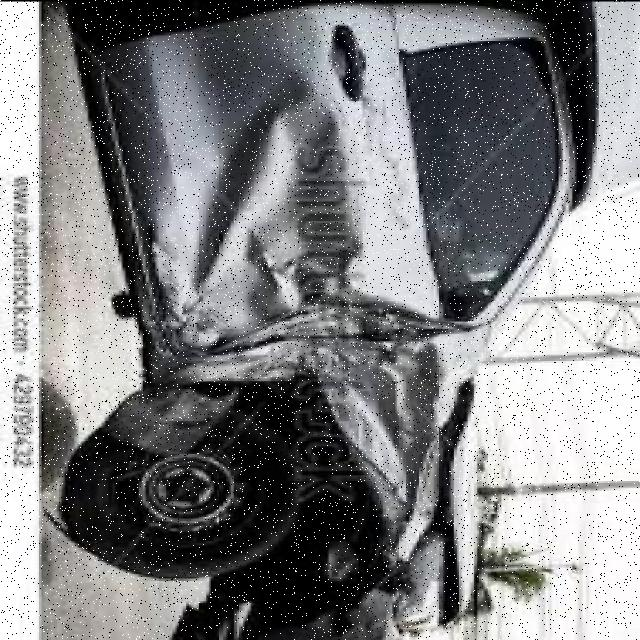damage: (119, 63, 497, 640)
